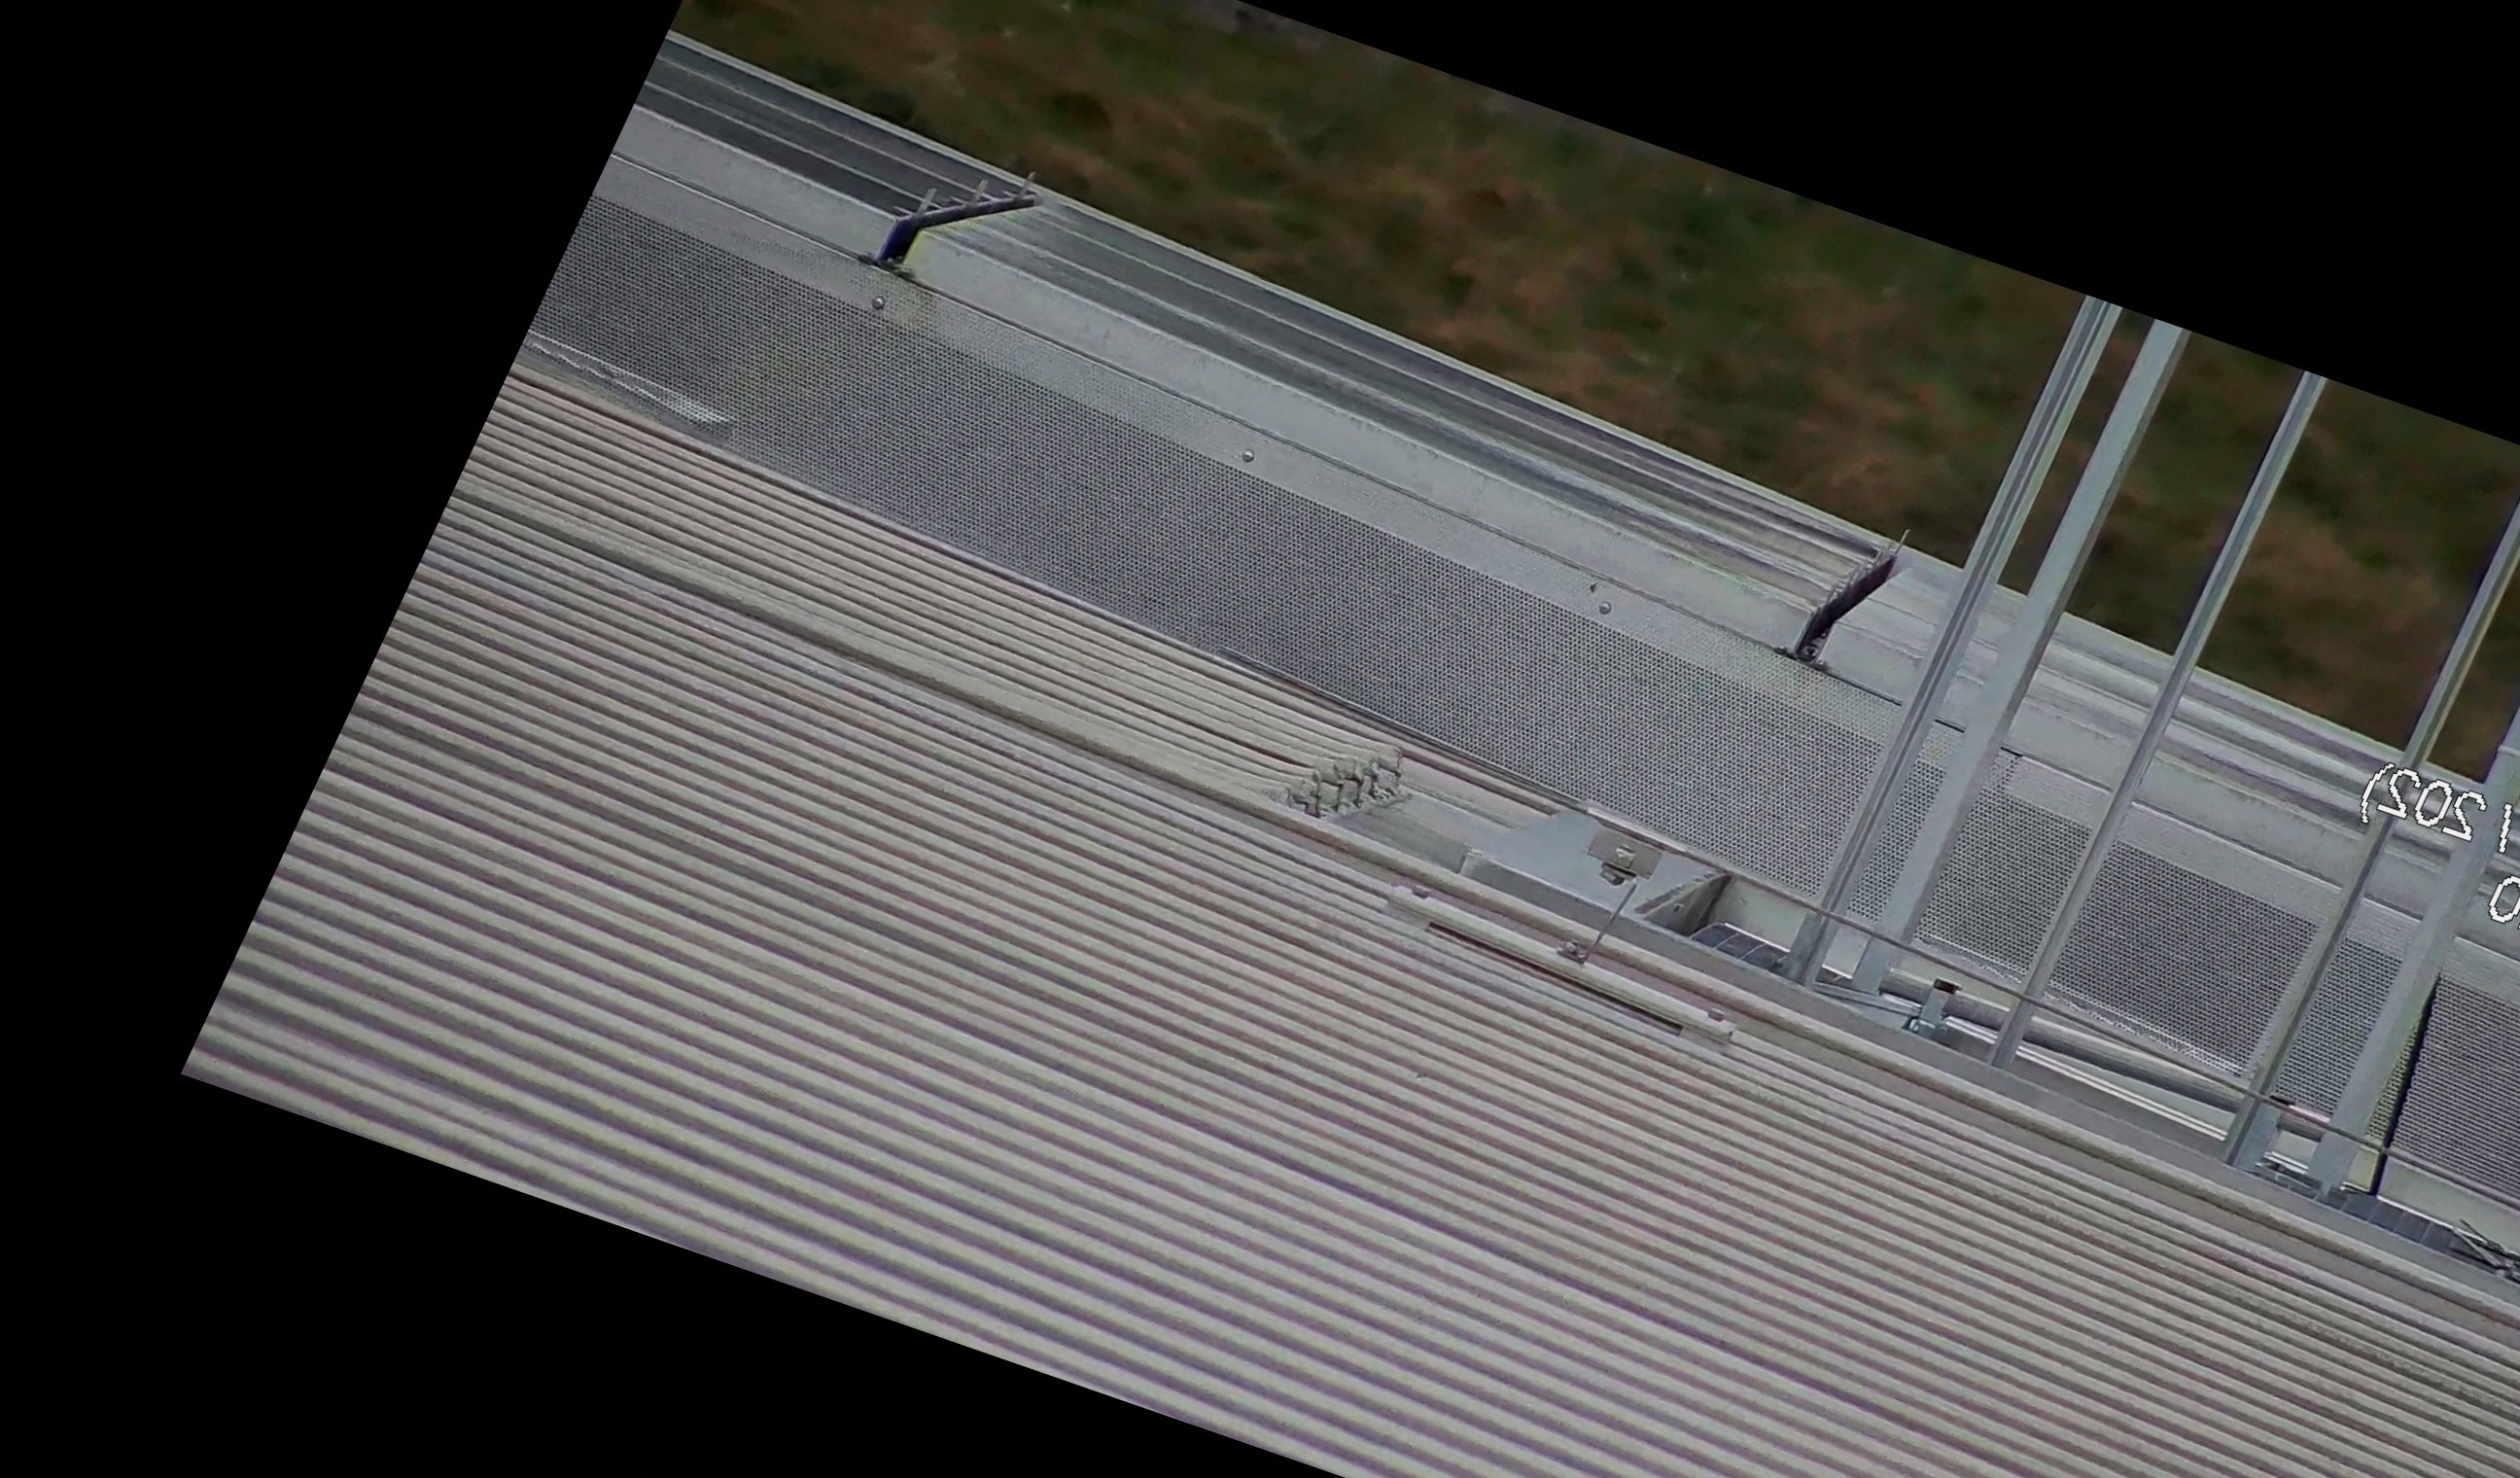Other: (1778, 514, 1927, 684)
